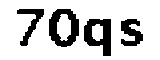0: (48, 5, 81, 52)
7: (14, 4, 44, 50)
q: (82, 15, 113, 60)
s: (118, 16, 147, 51)
